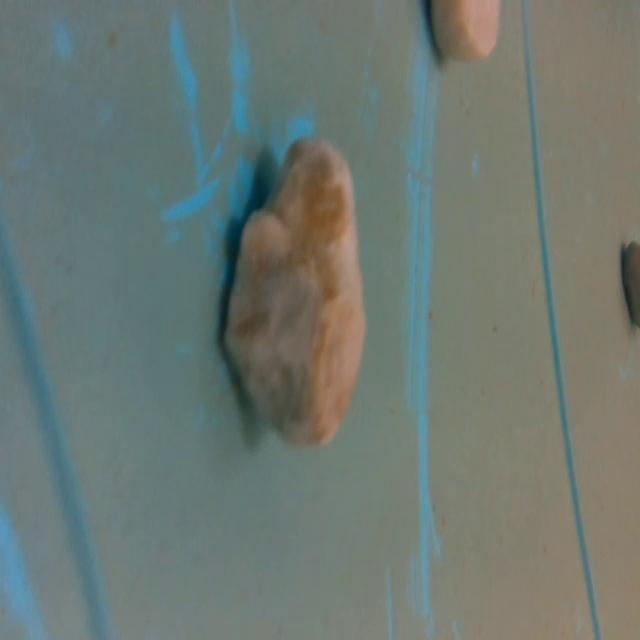rock: (213, 129, 395, 455), (425, 0, 505, 69)
